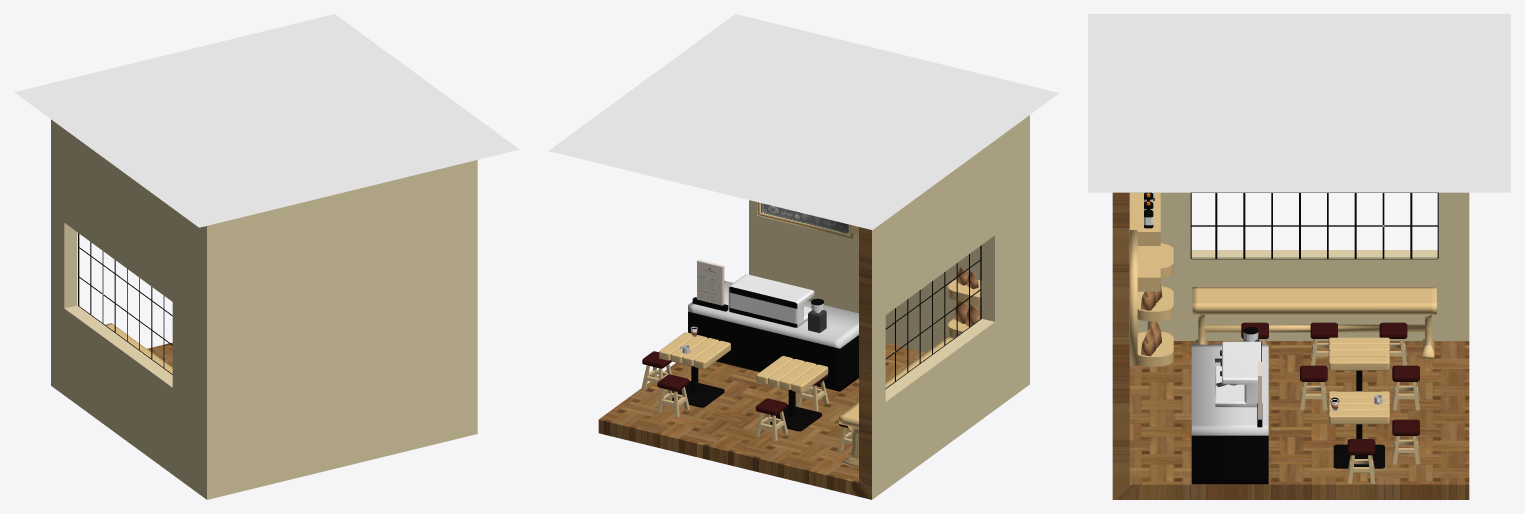
The model's file is cafe_remake.gltf.
The picture shows the model from 3 angles, left to right: view 1: azimuth 30°, elevation 25°; view 2: azimuth 150°, elevation 25°; view 3: azimuth 270°, elevation 25°; orthographic projection. The views are drawn at different scales.
Parts seen in each view (by area): view 1: room, Plane, C_screen; view 2: room, Plane, C_maindesk, C_coffeeMC, Cube.001, Cube.002, C_screen, C_menu_large, C_menu_small, C_desk_long, C_chair.004, C_chair.005 (+2 smaller); view 3: Plane, room, C_desk_long, C_maindesk, C_coffeeMC, Cube.002, C_screen, Cube.001, C_shelf, C_wall_shelf, C_wall_shelf.001, C_menu_large (+6 smaller).
Part boxes in pixels (x1,y1,x2,y2): room: [51, 119, 477, 499]; Plane: [14, 14, 519, 227]; C_screen: [78, 233, 172, 374]; room: [598, 115, 1029, 499]; Plane: [549, 14, 1059, 229]; C_maindesk: [688, 280, 858, 391]; C_coffeeMC: [728, 274, 814, 327]; Cube.001: [756, 356, 828, 431]; Cube.002: [659, 332, 730, 407]; C_screen: [885, 245, 981, 388]; C_menu_large: [757, 202, 855, 238]; C_menu_small: [692, 259, 728, 311]; C_desk_long: [839, 336, 953, 467]; C_chair.004: [656, 374, 689, 417]; C_chair.005: [755, 398, 787, 441]; Plane: [1088, 14, 1510, 192]; room: [1112, 192, 1469, 499]; C_desk_long: [1192, 287, 1436, 358]; C_maindesk: [1191, 344, 1268, 484]; C_coffeeMC: [1215, 341, 1261, 407]; Cube.002: [1328, 391, 1389, 468]; C_screen: [1190, 192, 1438, 259]; Cube.001: [1328, 337, 1389, 391]; C_shelf: [1137, 243, 1173, 366]; C_wall_shelf: [1129, 193, 1160, 245]; C_wall_shelf.001: [1129, 246, 1160, 291]; C_menu_large: [1130, 230, 1137, 365].
Size of what is drawn, in the model's own units: 27.39 by 23.23 by 27.39.
27 materials, 3 textured.
